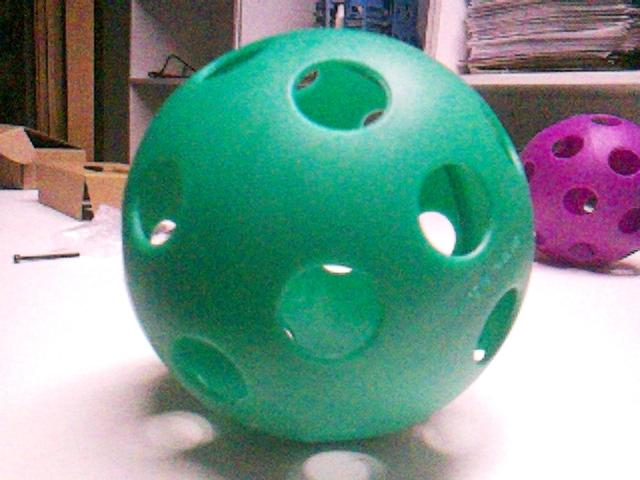Green: (119, 27, 528, 444)
Purple: (515, 115, 640, 271)
